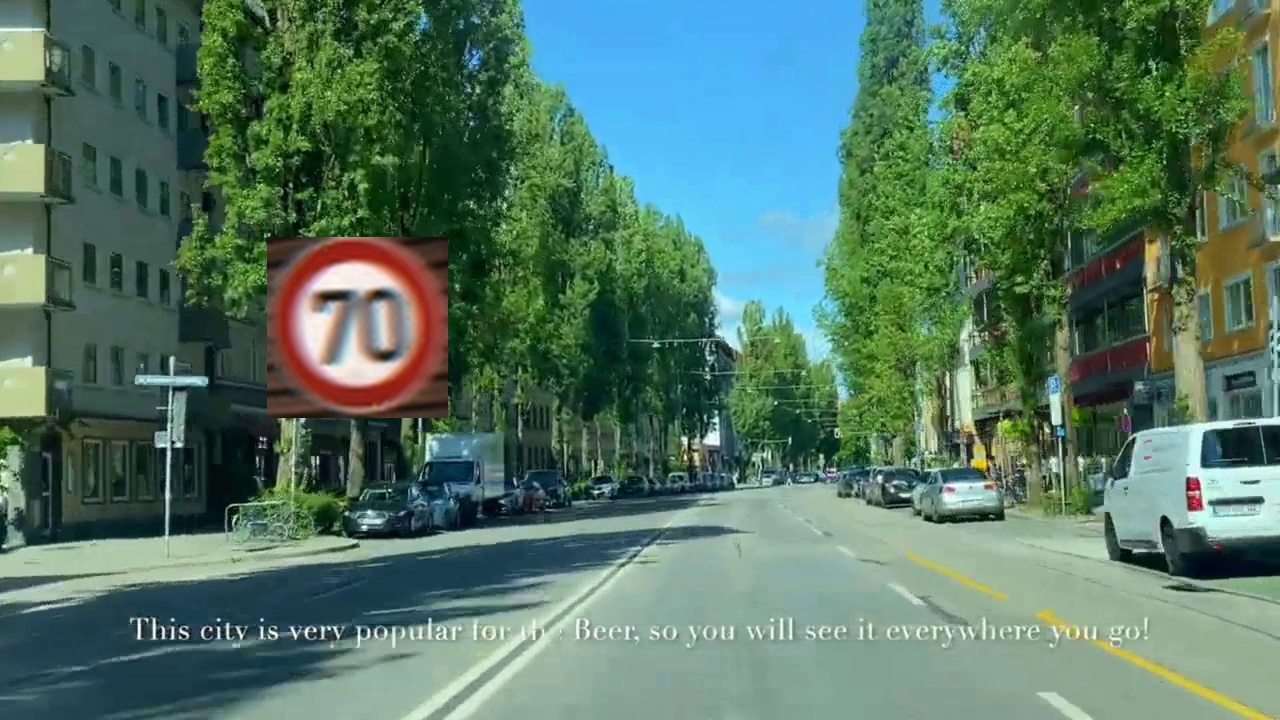Speed 70: (267, 237, 448, 418)
